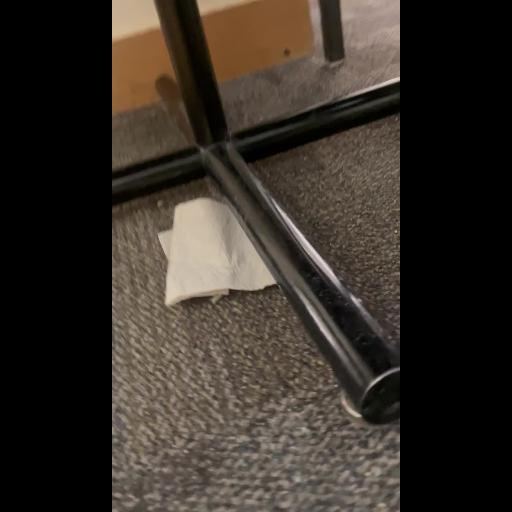napkin: (148, 190, 324, 308)
